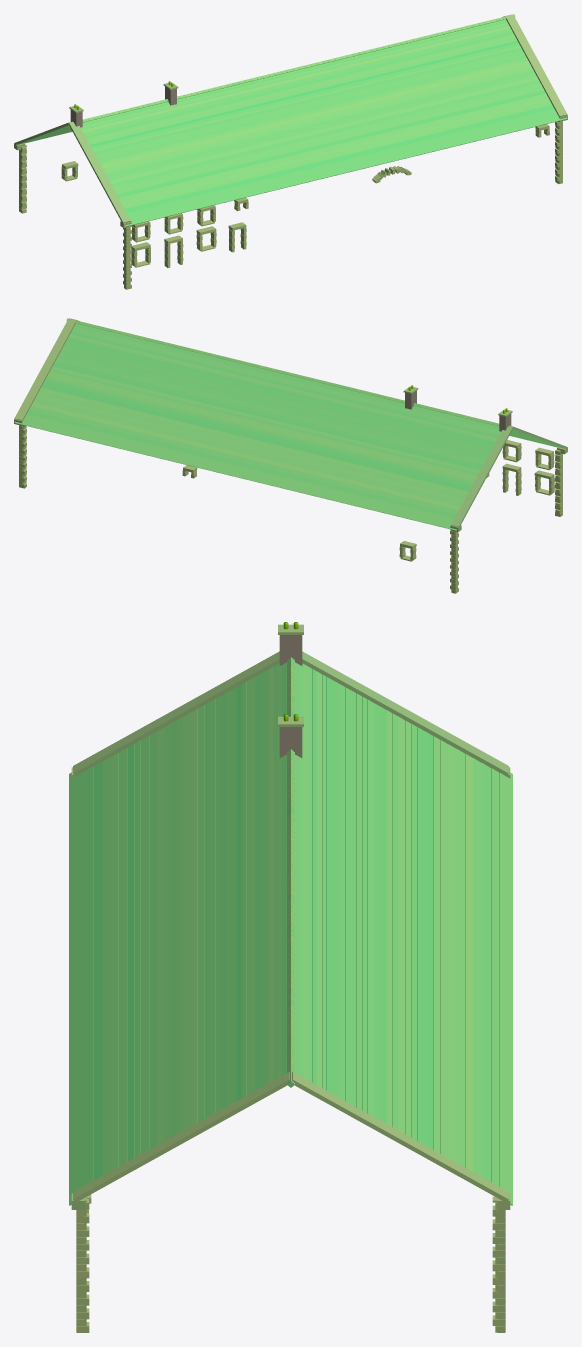
File: SM_Bld_136_Stone.glb
3 renders of one model, top to bottom at view 1: azimuth 30°, elevation 25°; view 2: azimuth 150°, elevation 25°; view 3: azimuth 270°, elevation 25°, orthographic. The views are drawn at different scales.
Parts seen in each view (by area): view 1: SM_Bld_136_Stone; view 2: SM_Bld_136_Stone; view 3: SM_Bld_136_Stone.
Boxes of the visible parts, left/top/right/bottom form: SM_Bld_136_Stone: left=14, top=14, right=567, bottom=289; SM_Bld_136_Stone: left=14, top=318, right=567, bottom=593; SM_Bld_136_Stone: left=69, top=622, right=512, bottom=1332.
Size of the model in its own units: 40.85 by 12.6 by 17.61.
